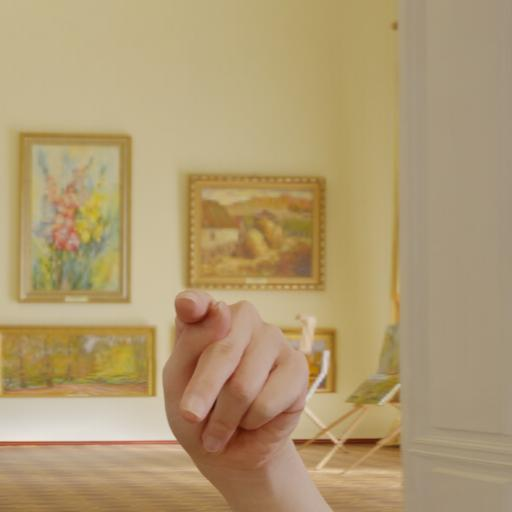P: (151, 284, 333, 487)
